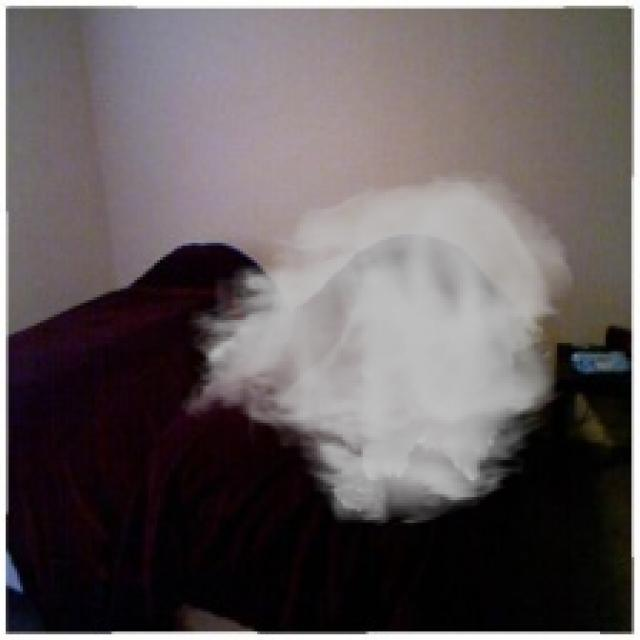Smoke: (177, 168, 577, 528)
